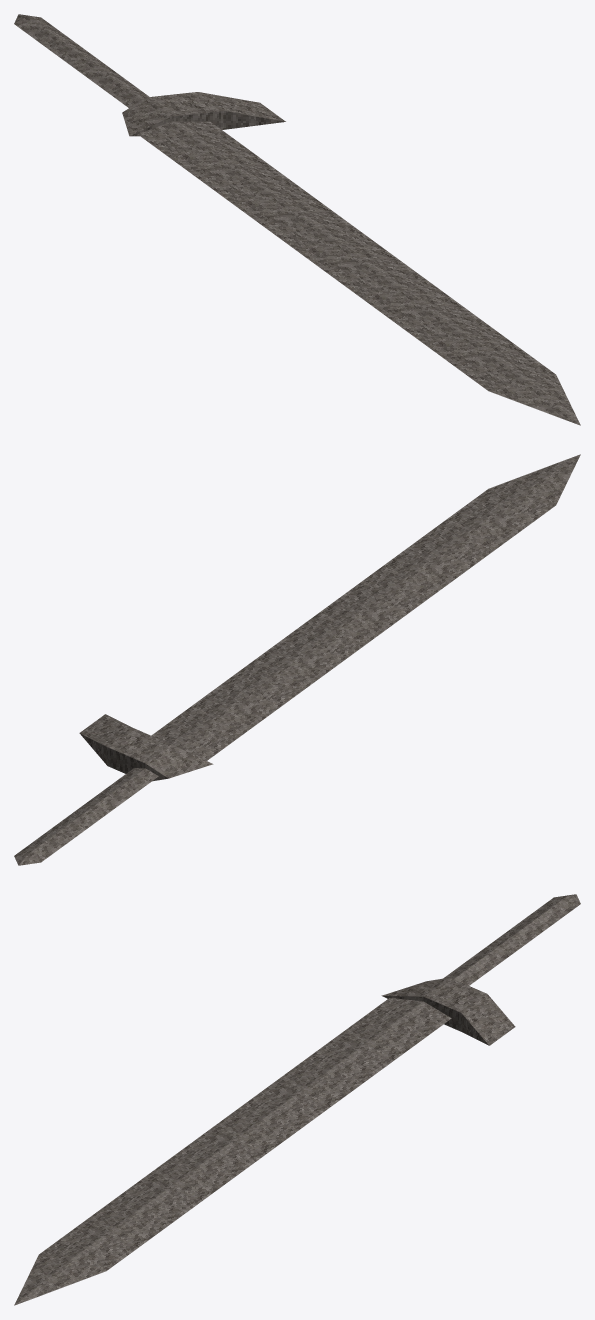
Rendered from Stone Sword.glb.
3 renders of one model, top to bottom at view 1: azimuth 30°, elevation 25°; view 2: azimuth 150°, elevation 25°; view 3: azimuth 330°, elevation 25°, orthographic.
Parts seen in each view (by area): view 1: Stone Sword; view 2: Stone Sword; view 3: Stone Sword.
Boxes of the visible parts, x1=… form: Stone Sword: x1=14, y1=14, x2=580, y2=425; Stone Sword: x1=14, y1=454, x2=580, y2=865; Stone Sword: x1=14, y1=894, x2=580, y2=1305.
Bounding box in the file's own units: 5.86 × 0.8 × 43.12.
1 material, 1 textured.
